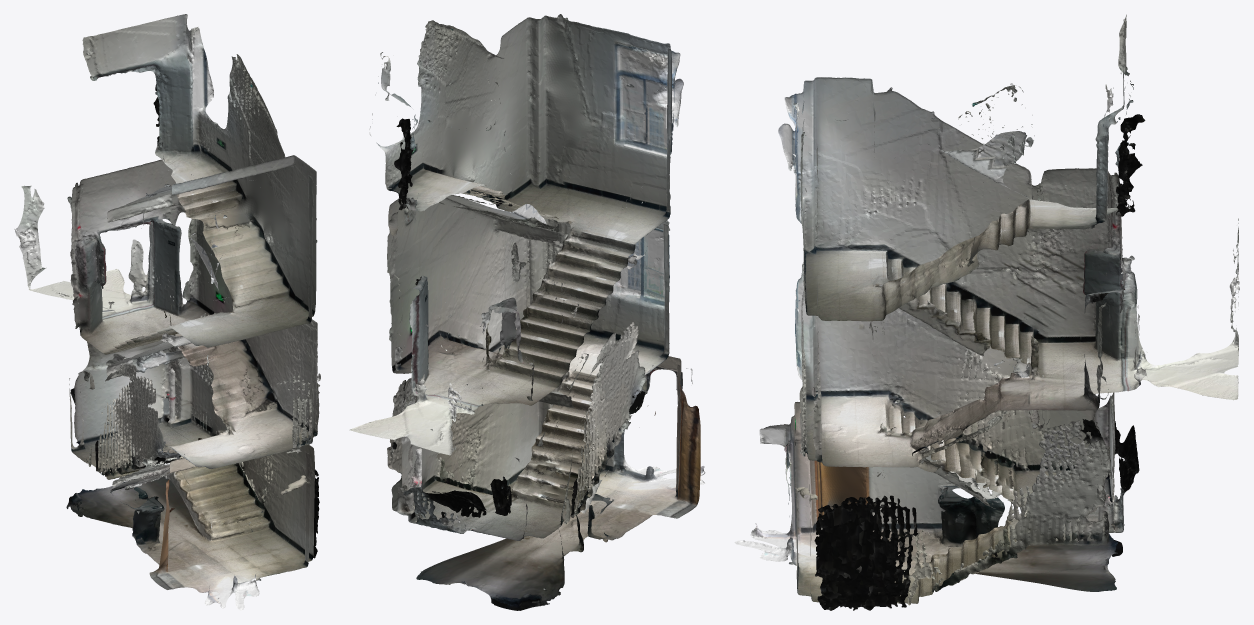
3 views of the same model, side by side, from view 1: azimuth 30°, elevation 25°; view 2: azimuth 150°, elevation 25°; view 3: azimuth 270°, elevation 25° (orthographic). The views are drawn at different scales.
Visible parts, largest first — view 1: Story 2, Story 0, Story 1; view 2: Story 2, Story 1, Story 0; view 3: Story 1, Story 2, Story 0.
Boxes of the visible parts, left/top/right/bottom form: Story 2: left=67, top=14, right=317, bottom=347; Story 0: left=66, top=361, right=319, bottom=610; Story 1: left=14, top=185, right=320, bottom=468; Story 2: left=369, top=14, right=683, bottom=328; Story 1: left=349, top=210, right=669, bottom=461; Story 0: left=387, top=356, right=705, bottom=610; Story 1: left=795, top=218, right=1239, bottom=472; Story 2: left=778, top=14, right=1145, bottom=324; Story 0: left=734, top=398, right=1139, bottom=610.
Bounding box in the file's own units: 4.14 × 10.63 × 9.05.
4 materials, 4 textured.
